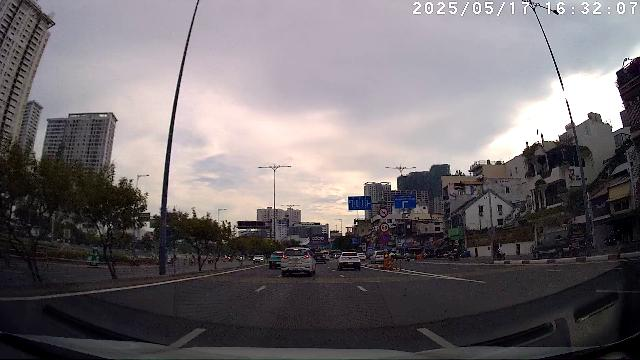127-toc-do-toi-da-60: (379, 223, 388, 233)
